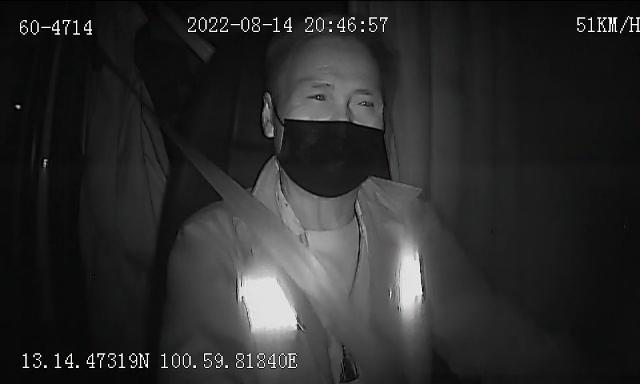SafeDriving: (300, 83, 336, 107), (347, 90, 382, 114)
Seatbelt: (148, 106, 406, 384)
